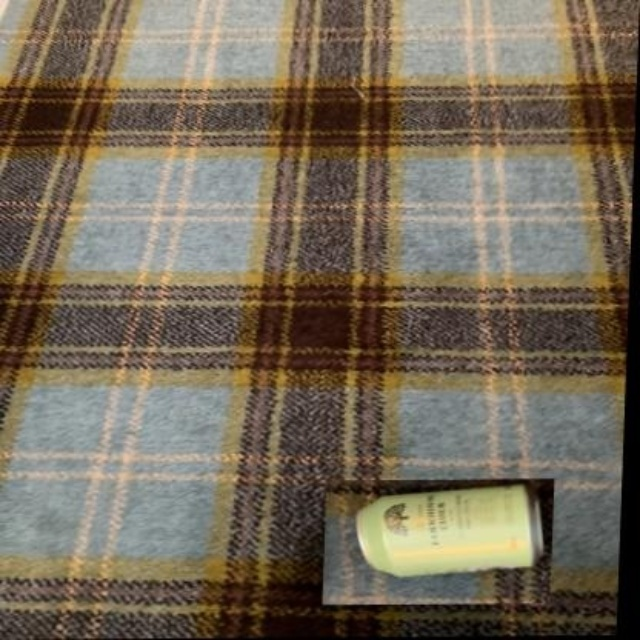trash: (355, 485, 542, 575)
